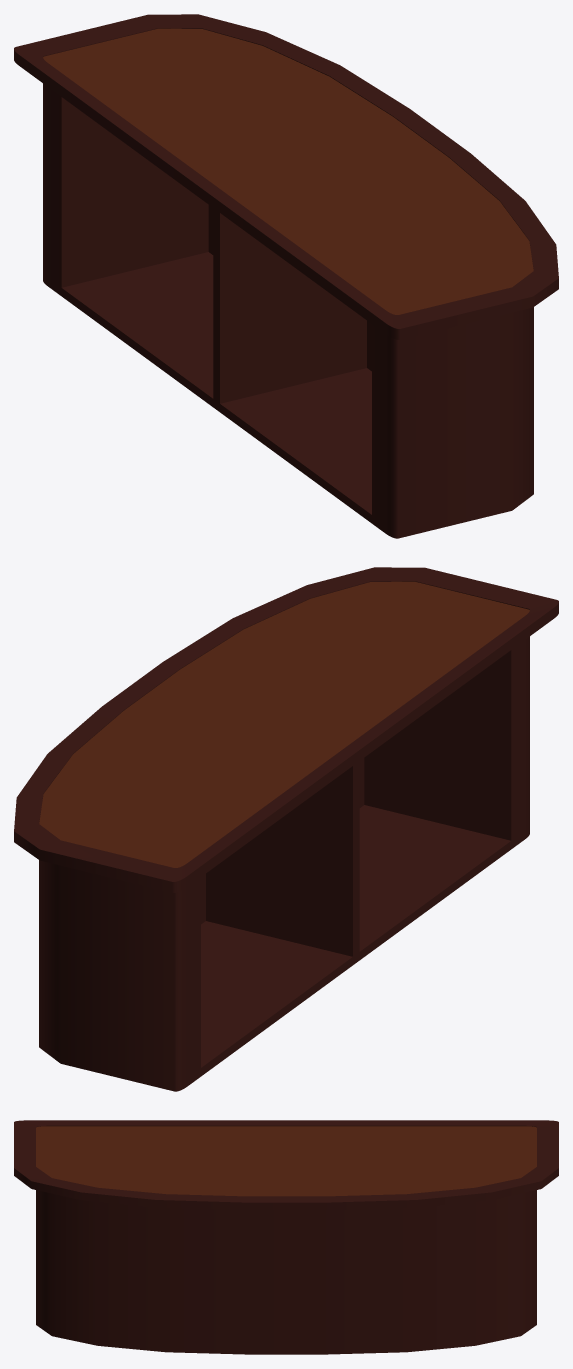
The model's file is bar table.fbx.
3 renders of one model, top to bottom at view 1: azimuth 30°, elevation 25°; view 2: azimuth 150°, elevation 25°; view 3: azimuth 270°, elevation 25°, orthographic. The views are drawn at different scales.
Parts seen in each view (by area): view 1: Cube; view 2: Cube; view 3: Cube.
Boxes of the visible parts, bbox=[...] form: Cube: bbox=[14, 14, 558, 538]; Cube: bbox=[14, 567, 558, 1091]; Cube: bbox=[14, 1120, 558, 1354].
Bounding box in the file's own units: 233 × 210 × 652.
